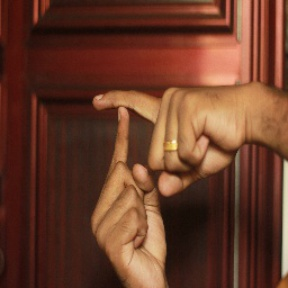T: (83, 79, 176, 211)
